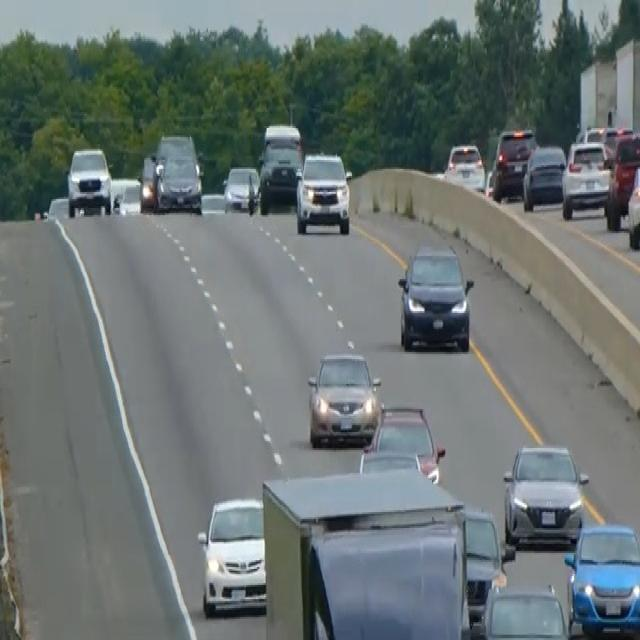car: (501, 441, 589, 547), (563, 519, 639, 638), (196, 492, 266, 617), (306, 348, 381, 448), (459, 505, 515, 631), (359, 402, 445, 484), (479, 580, 570, 638), (561, 137, 612, 219), (66, 144, 113, 217), (490, 125, 536, 199), (605, 130, 639, 229), (521, 142, 566, 212), (155, 151, 203, 213), (258, 139, 302, 206), (444, 140, 486, 192), (222, 164, 260, 215), (575, 121, 626, 155), (153, 130, 197, 167), (110, 174, 142, 215), (138, 151, 159, 210), (626, 158, 639, 251), (262, 121, 302, 151)
jeep: (294, 148, 353, 235)
minivan: (395, 238, 475, 356)
truck: (261, 466, 472, 638)
